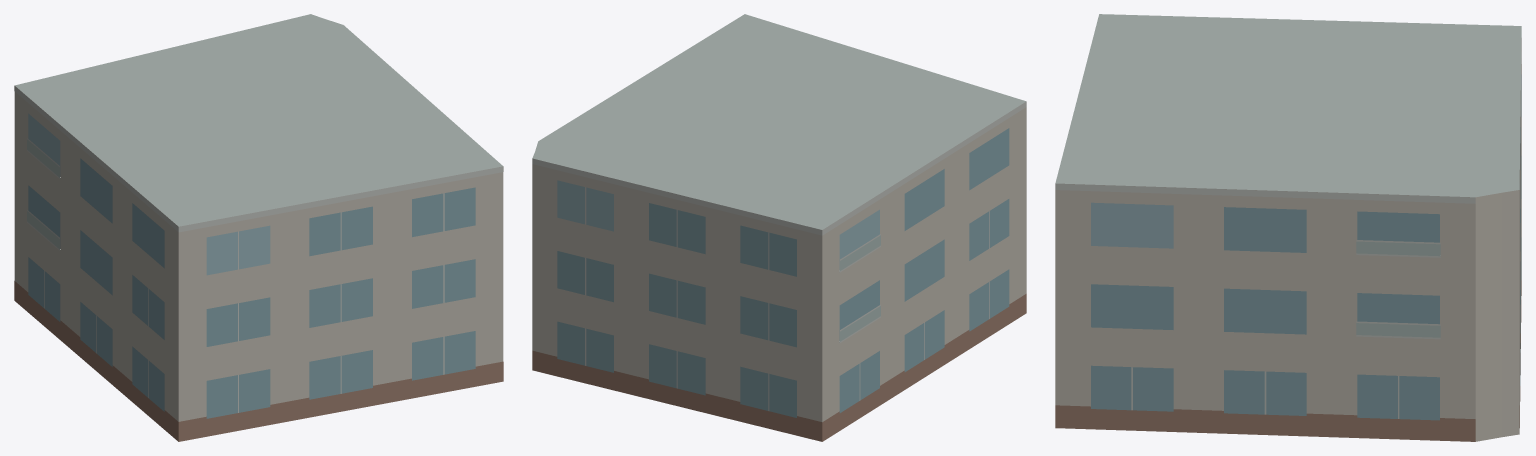
The model's file is survey-upis-32770701.glb.
The picture shows the model from 3 angles, left to right: view 1: azimuth 30°, elevation 25°; view 2: azimuth 150°, elevation 25°; view 3: azimuth 270°, elevation 25°; orthographic projection. The views are drawn at different scales.
Parts seen in each view (by area): view 1: survey-upis-32770701.tmp; view 2: survey-upis-32770701.tmp; view 3: survey-upis-32770701.tmp.
Boxes of the visible parts, left/top/right/bottom form: survey-upis-32770701.tmp: left=14, top=14, right=503, bottom=441; survey-upis-32770701.tmp: left=532, top=14, right=1026, bottom=441; survey-upis-32770701.tmp: left=1055, top=14, right=1521, bottom=441.
Size of the model in its own units: 14.72 by 9.15 by 15.82.
